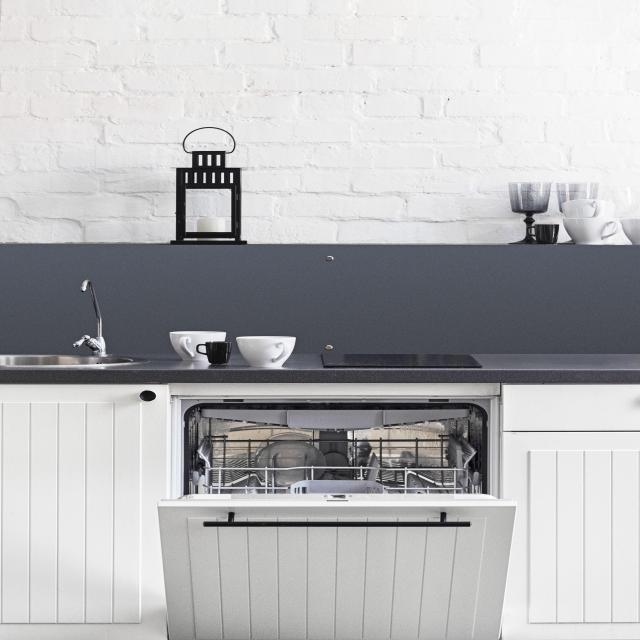dishwasher: (154, 383, 522, 640)
